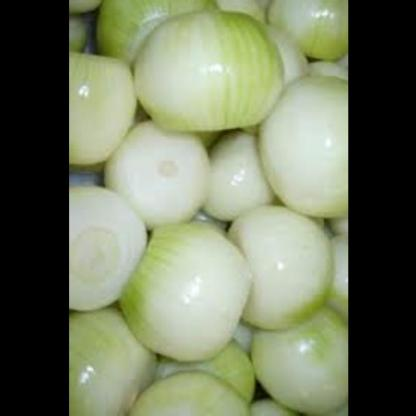onion: (74, 0, 349, 414)
